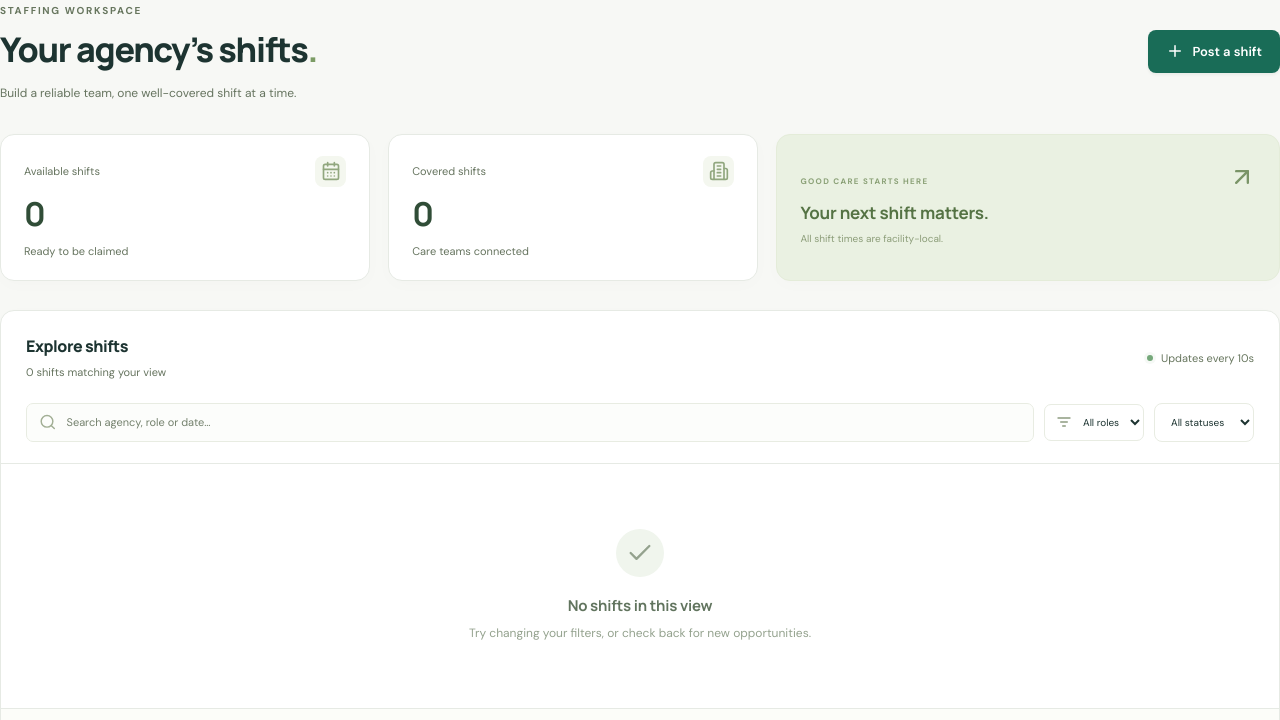
Test: frontend compatibility and user feedback › keeps posting errors inside the open dialog
Click the button with test id "agency-post-shift-button": (1214, 51) left=1148, top=30, right=1279, bottom=73
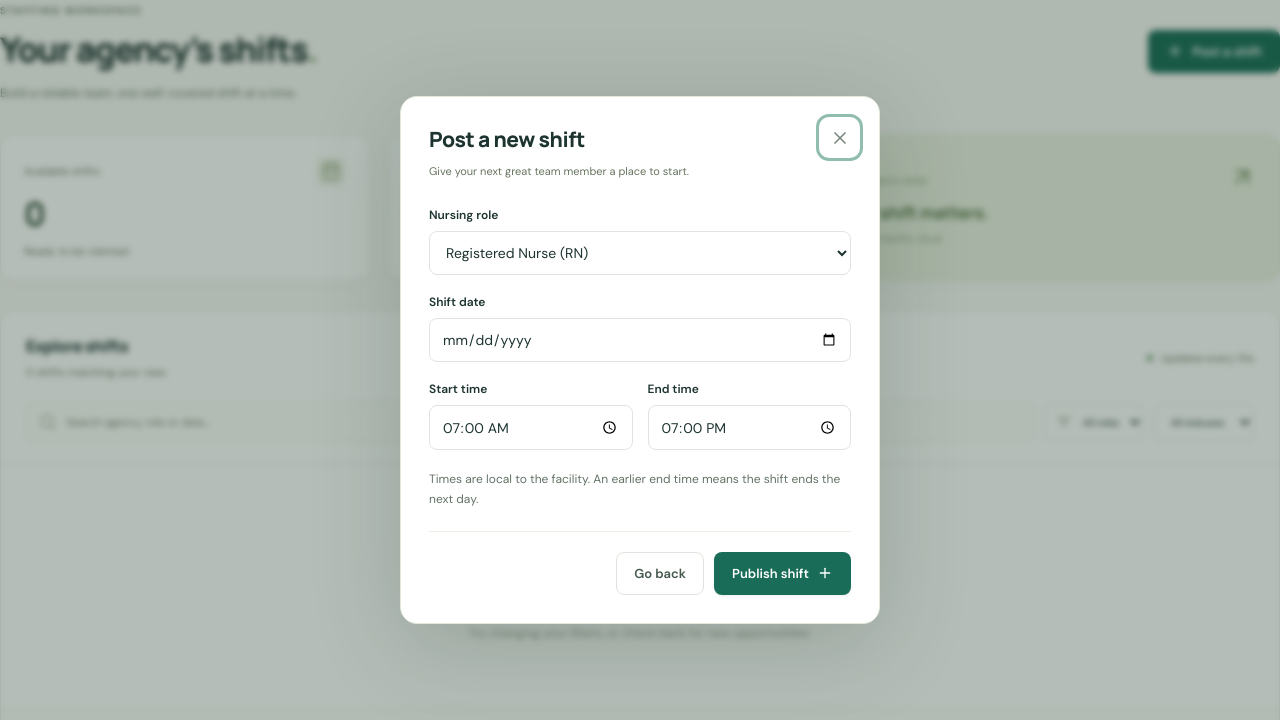
In the date field labelled "Shift date": (640, 340) left=429, top=318, right=851, bottom=362, type "2026-10-22"
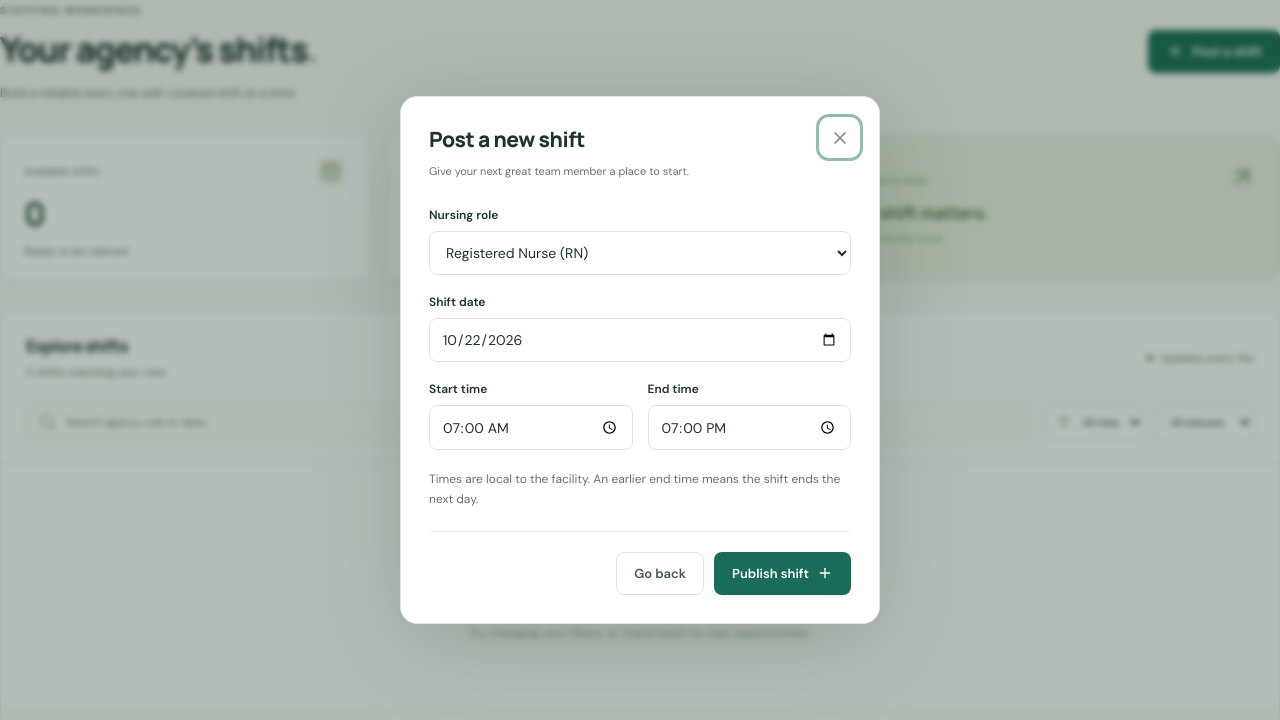
Click the button with test id "agency-post-shift-submit-button": (782, 573) left=714, top=552, right=851, bottom=595
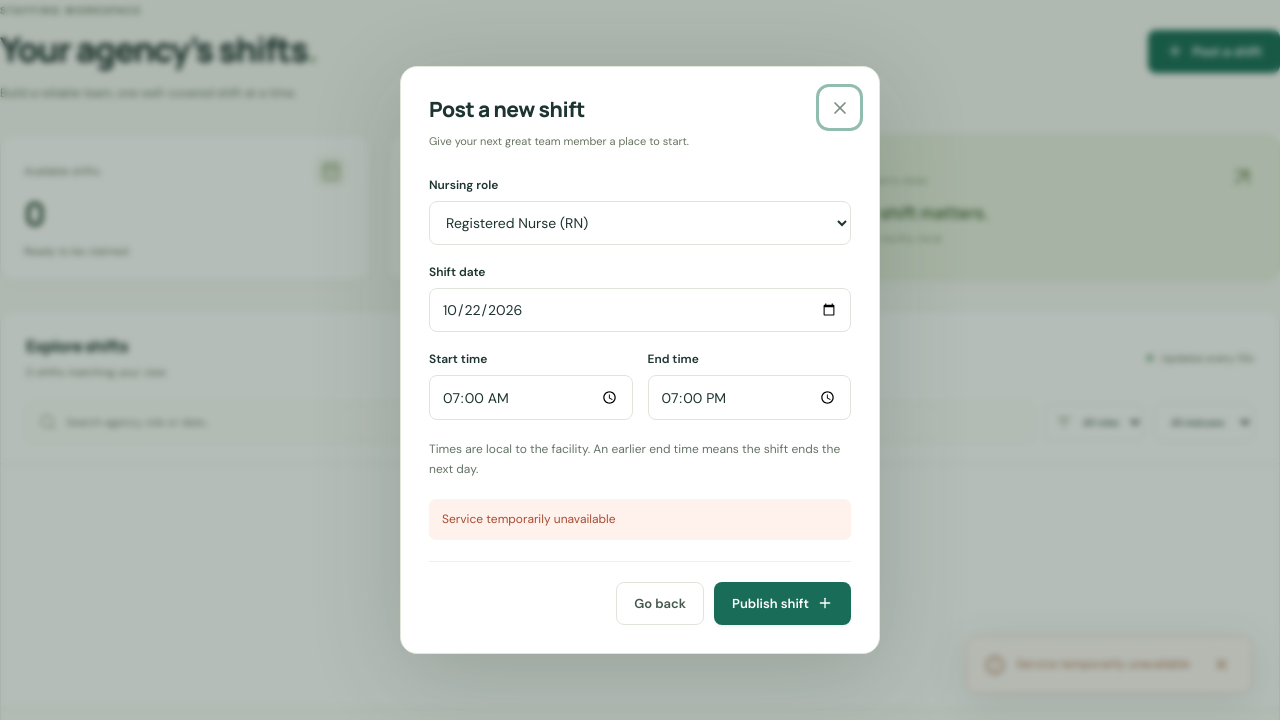
Expected: the message "Service temporarily unavailable" below "Start time" is shown, left=442, top=510, right=616, bottom=526
